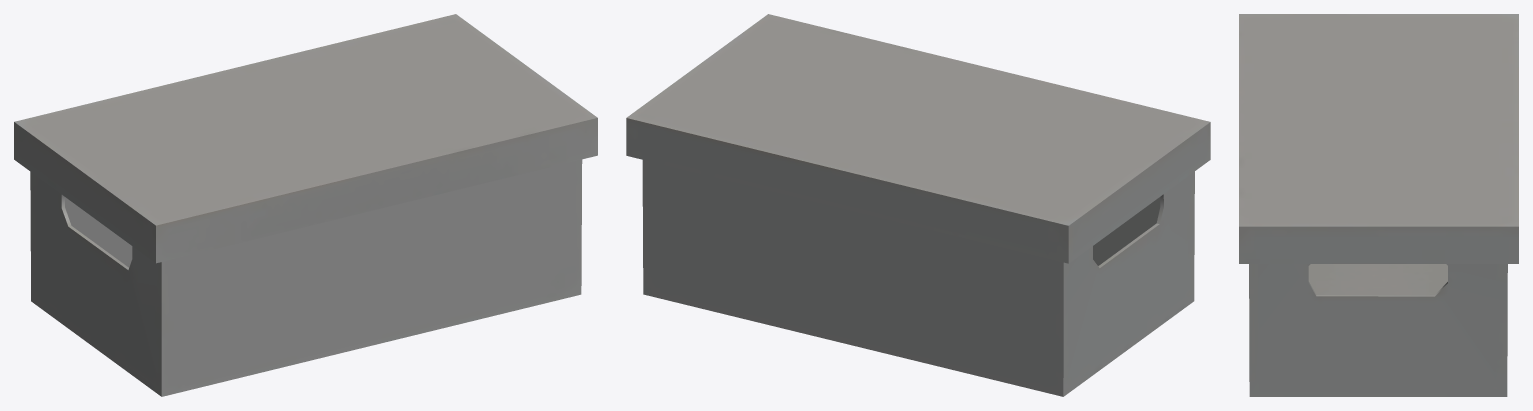
The model's file is Pfb_PaperBox__6.fbx.
The picture shows the model from 3 angles, left to right: view 1: azimuth 30°, elevation 25°; view 2: azimuth 150°, elevation 25°; view 3: azimuth 270°, elevation 25°; orthographic projection.
Visible parts, largest first — view 1: Mat_PaperBox_01_01; view 2: Mat_PaperBox_01_01; view 3: Mat_PaperBox_01_01.
Boxes of the visible parts, left/top/right/bottom form: Mat_PaperBox_01_01: left=14, top=14, right=597, bottom=396; Mat_PaperBox_01_01: left=626, top=14, right=1210, bottom=396; Mat_PaperBox_01_01: left=1239, top=14, right=1518, bottom=396.
Bounding box in the file's own units: 1.34 × 0.5169 × 0.7468.
1 material, 1 textured.
